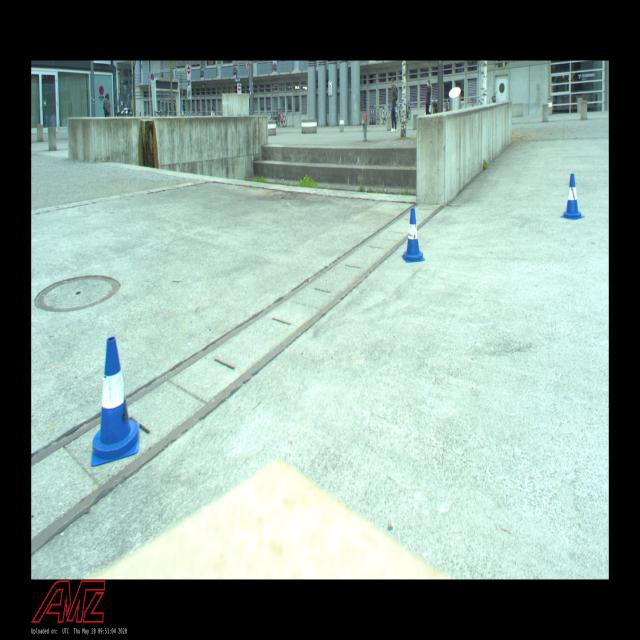blue_cone: (87, 334, 143, 467), (402, 208, 424, 262), (560, 172, 584, 220)
